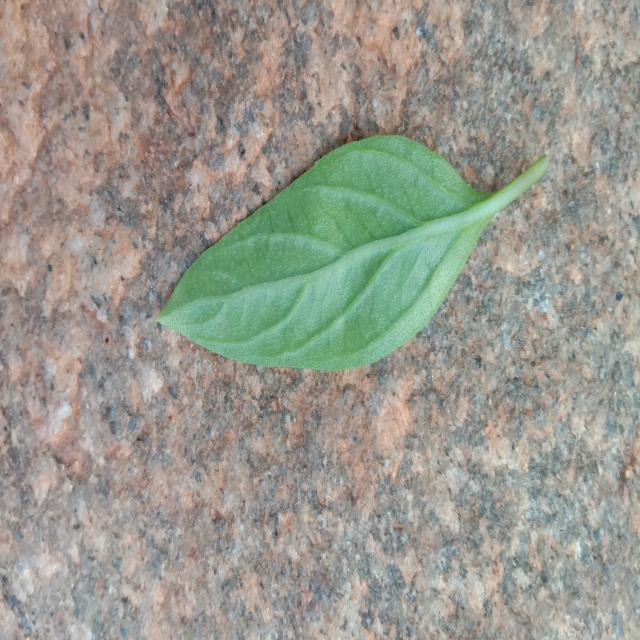kamakasturi: (158, 135, 548, 369)
